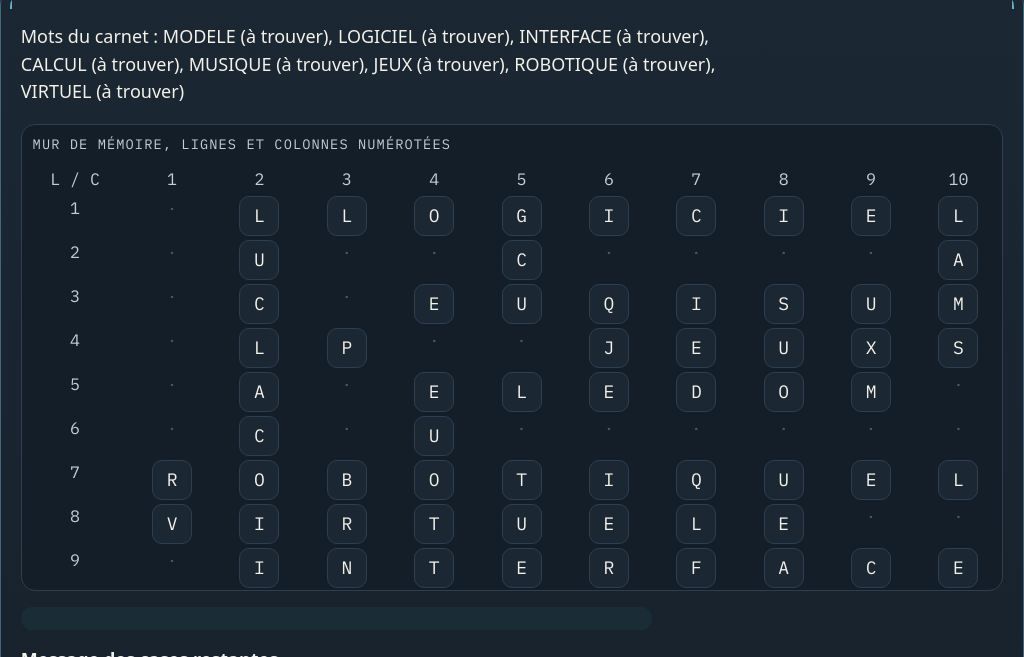
Test case: SYN-02 permet de retirer un segment choisi
(page scrolled)
Click the button "J": (609, 348) [589,328,629,368]
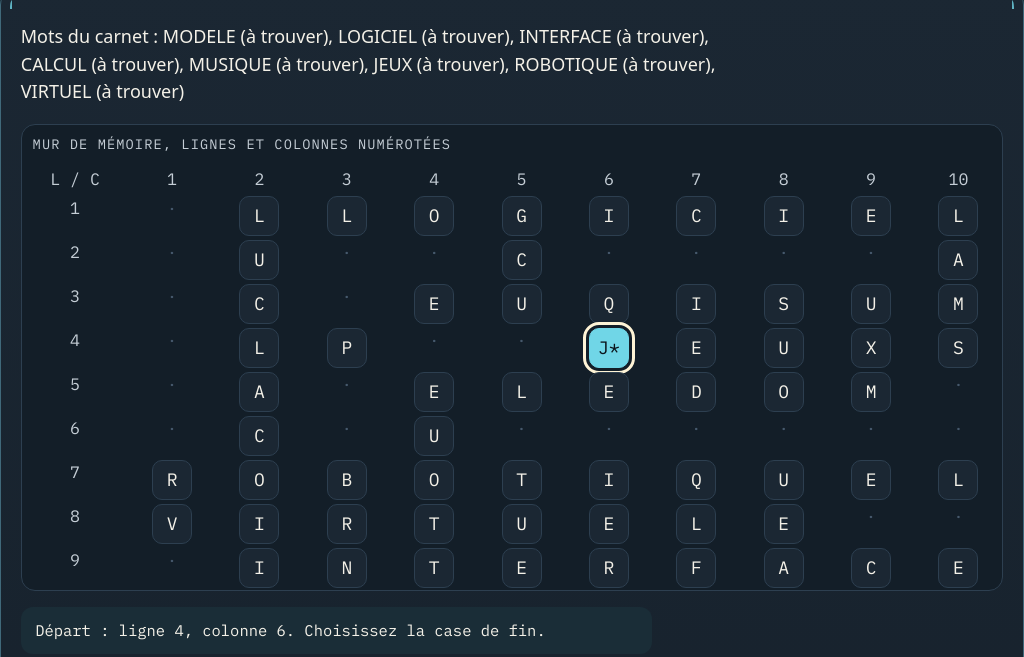
Click the button "X": (871, 348) [851,328,891,368]
(page scrolled)
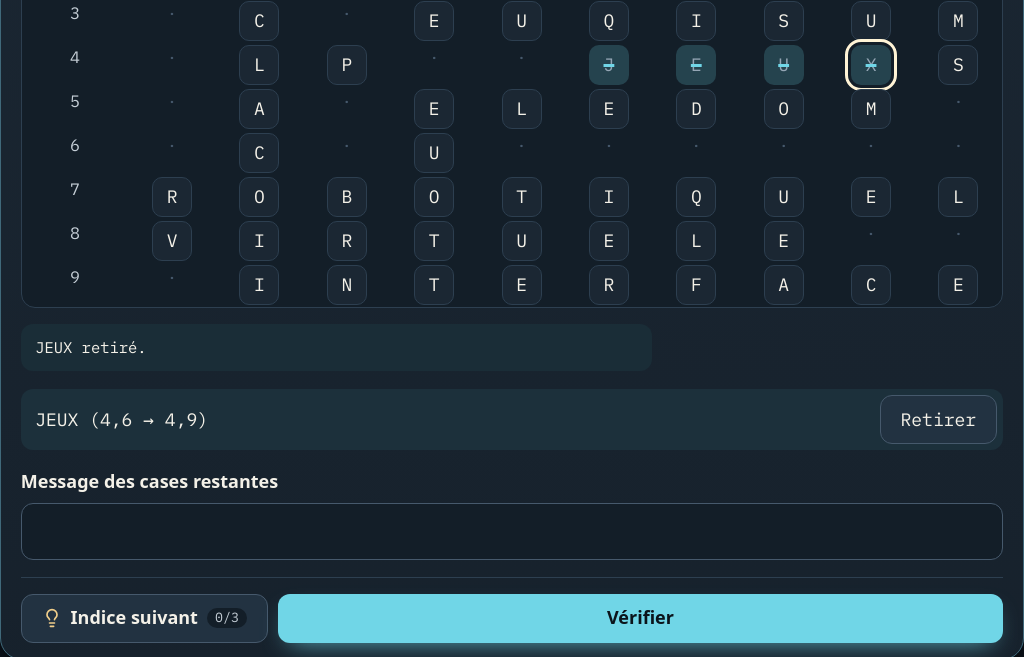
Check: the list item "JEUX (4,6 → 4,9) Retirer" is shown, box [21,389,1003,450]
Click the button "Retirer": (938, 420) [880,395,997,444]
(page scrolled)
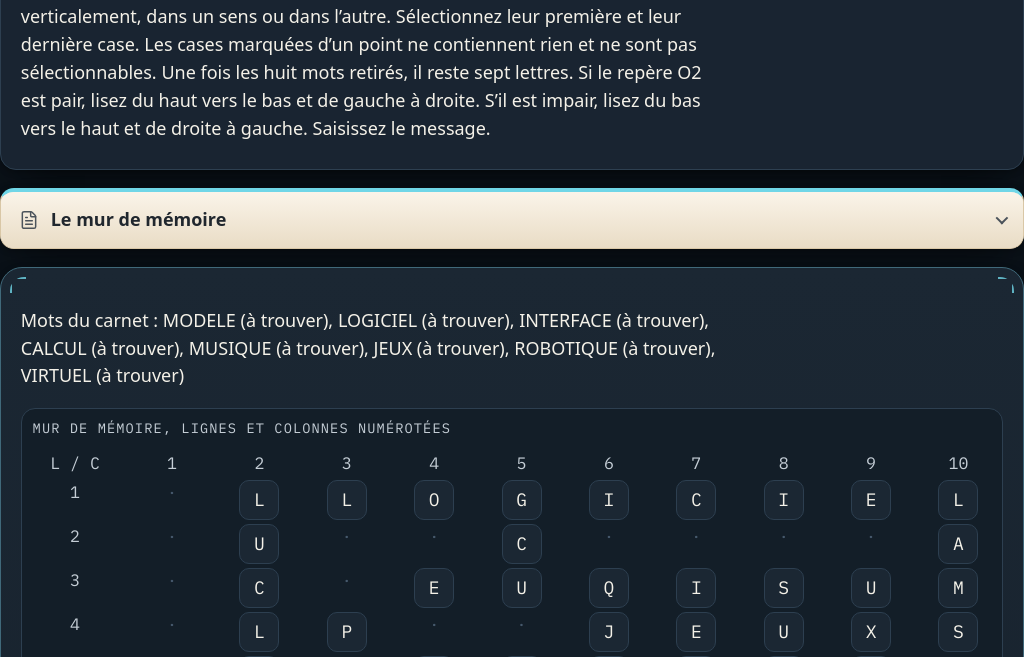
Check: the text "JEUX (à trouver)" is shown, box [21,308,716,387]
